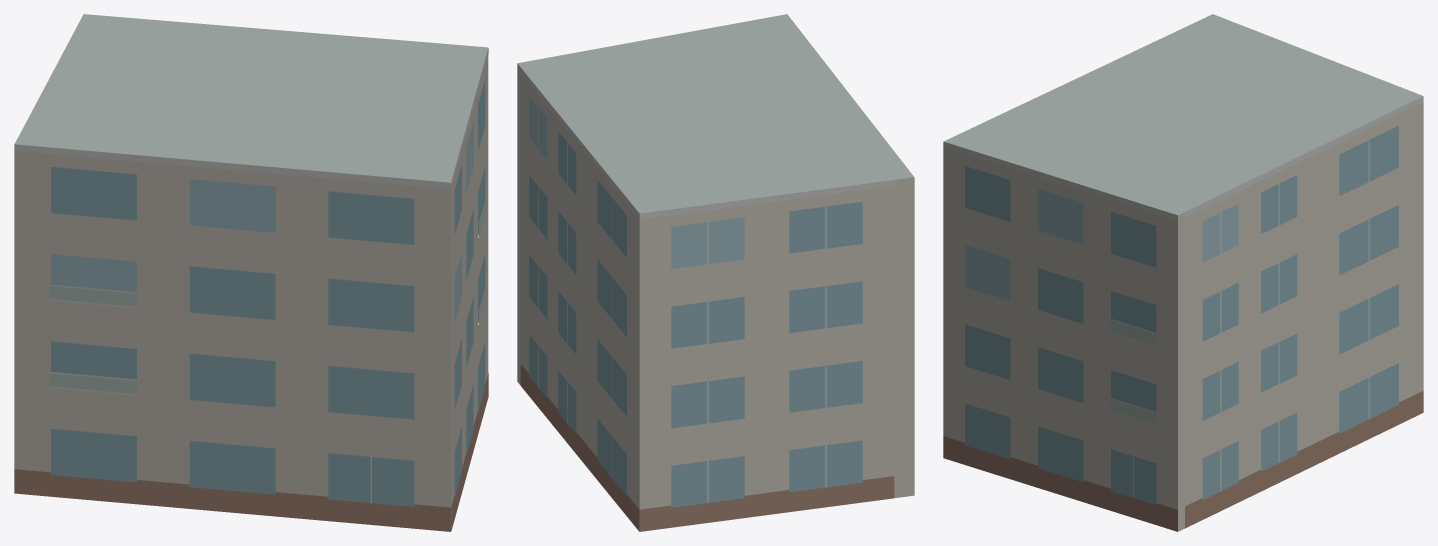
The model's file is survey-upis-32687910.glb.
The picture shows the model from 3 angles, left to right: view 1: azimuth 30°, elevation 25°; view 2: azimuth 150°, elevation 25°; view 3: azimuth 270°, elevation 25°; orthographic projection. The views are drawn at different scales.
Visible parts, largest first — view 1: survey-upis-32687910.tmp; view 2: survey-upis-32687910.tmp; view 3: survey-upis-32687910.tmp.
Boxes of the visible parts, x1,y1,x2,y2 form: survey-upis-32687910.tmp: [14, 14, 488, 531]; survey-upis-32687910.tmp: [517, 14, 914, 531]; survey-upis-32687910.tmp: [943, 14, 1423, 531].
Size of the model in its own units: 17.34 by 12.71 by 17.48.
